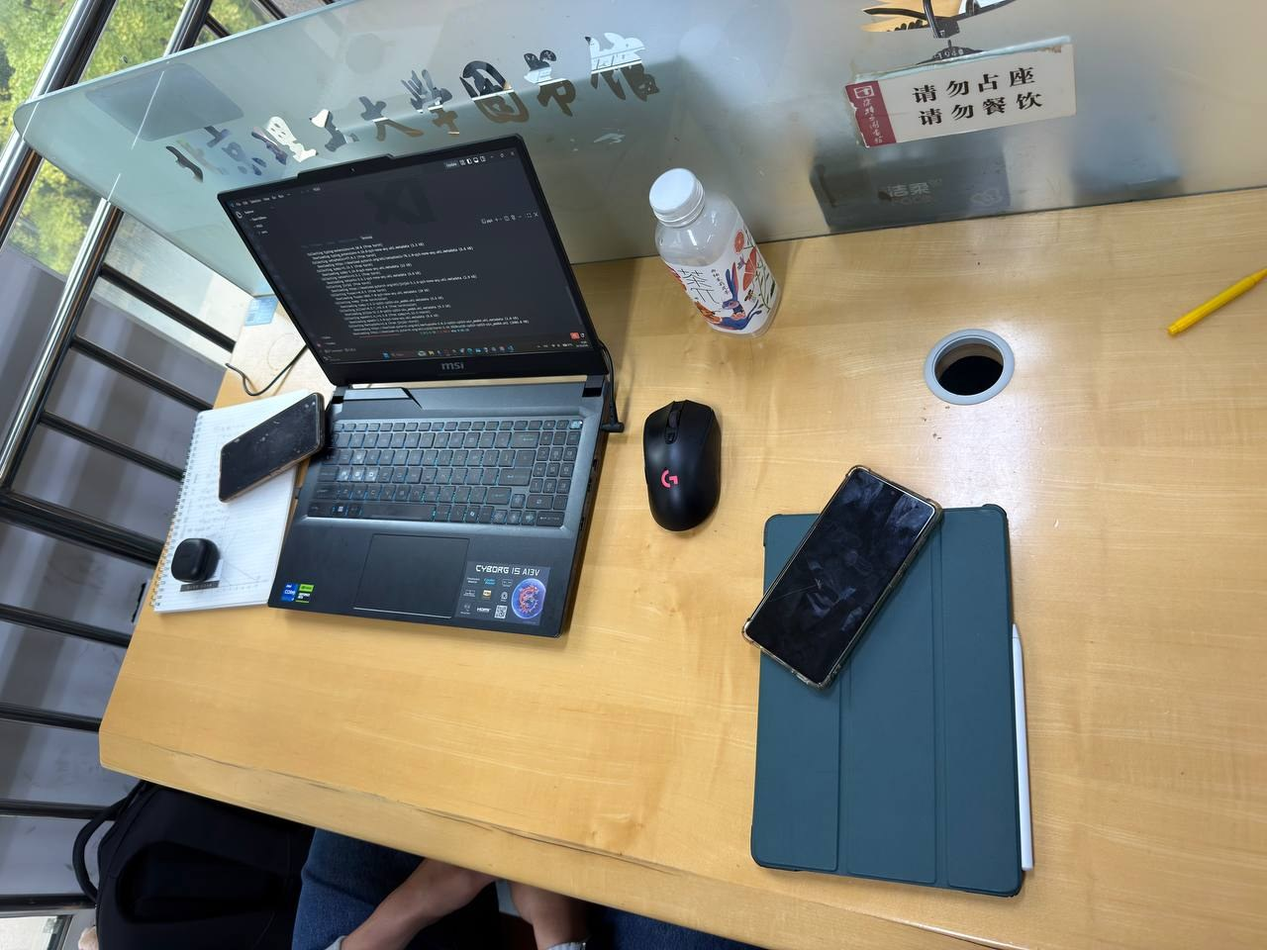cell phone: (742, 464, 943, 691), (218, 391, 326, 502)
laptop: (217, 133, 622, 638)
